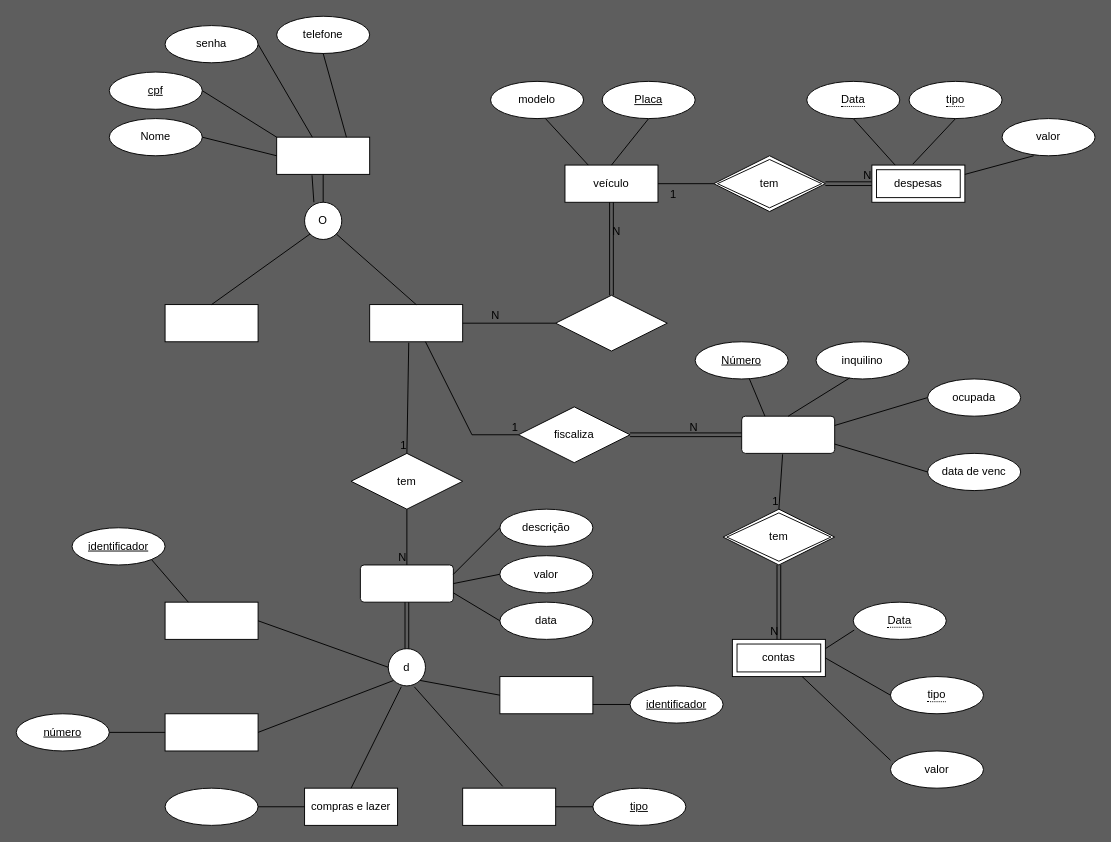
This 1111x842 diagram has some shape labels left out. Here are the shapes that lost their labels. From the top down, the box of each, then its label:
(276, 136, 370, 174): usuários
(164, 304, 258, 342): administrador
(369, 304, 463, 342): Proprietário
(555, 294, 667, 351): Possui
(741, 415, 835, 453): condomínio
(359, 564, 453, 602): Particular
(164, 601, 258, 639): Saúde
(499, 676, 593, 714): extra
(164, 713, 258, 751): cartões e banco
(164, 787, 258, 825): produto
(462, 787, 556, 825): pagamento
